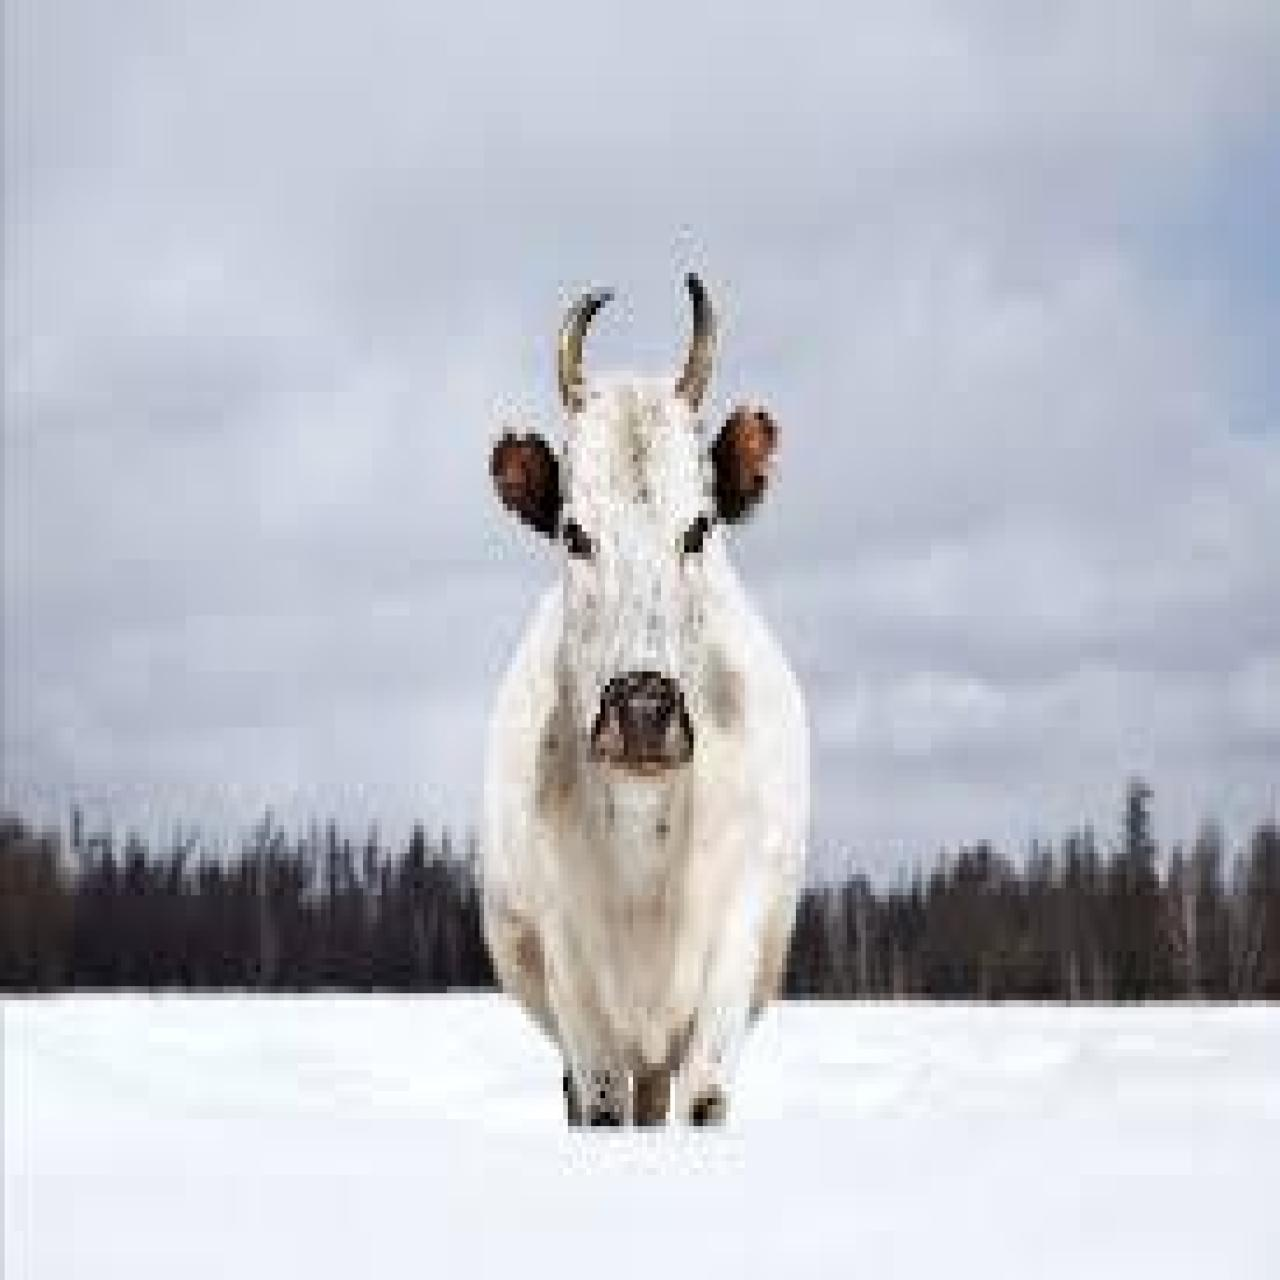cow: (482, 270, 808, 1123)
